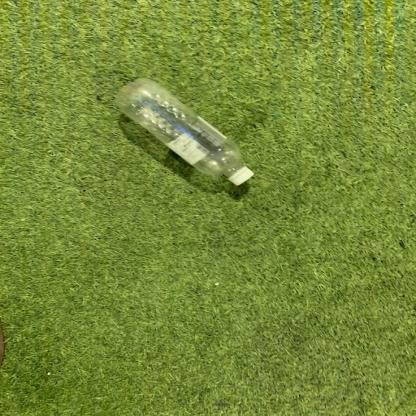trash: (111, 76, 255, 188)
